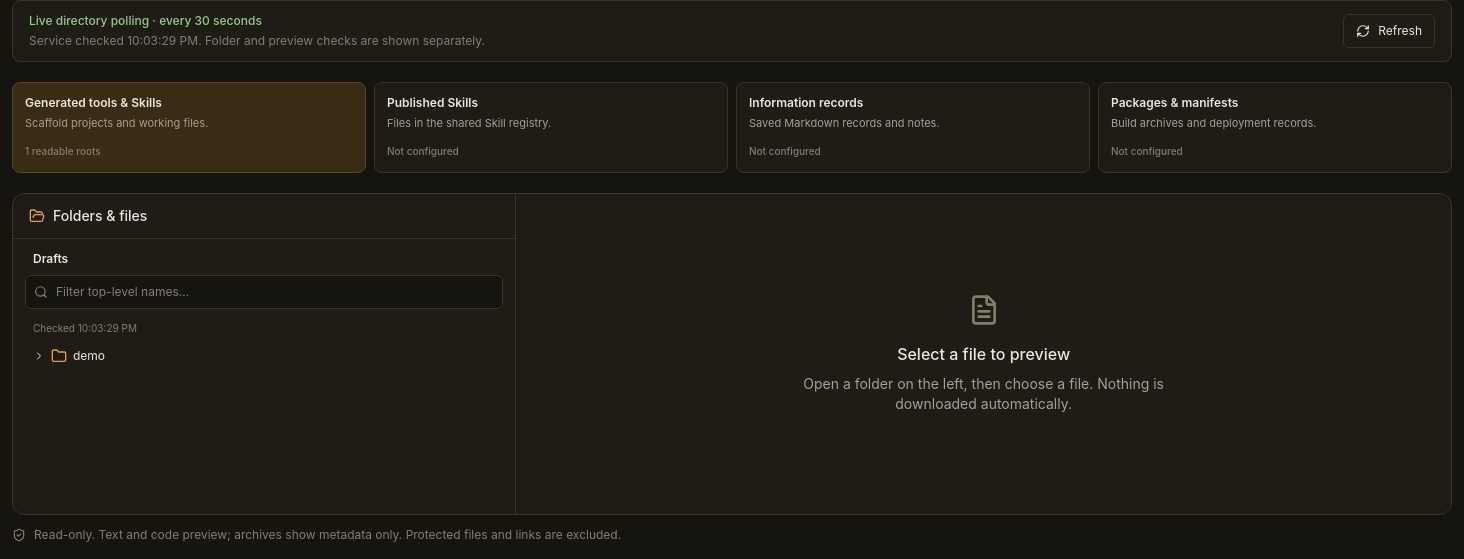
Files live browser › keeps old content visibly stale on a transient refresh failure
Click the button "demo" at (89, 356), box [25,340,503,372]
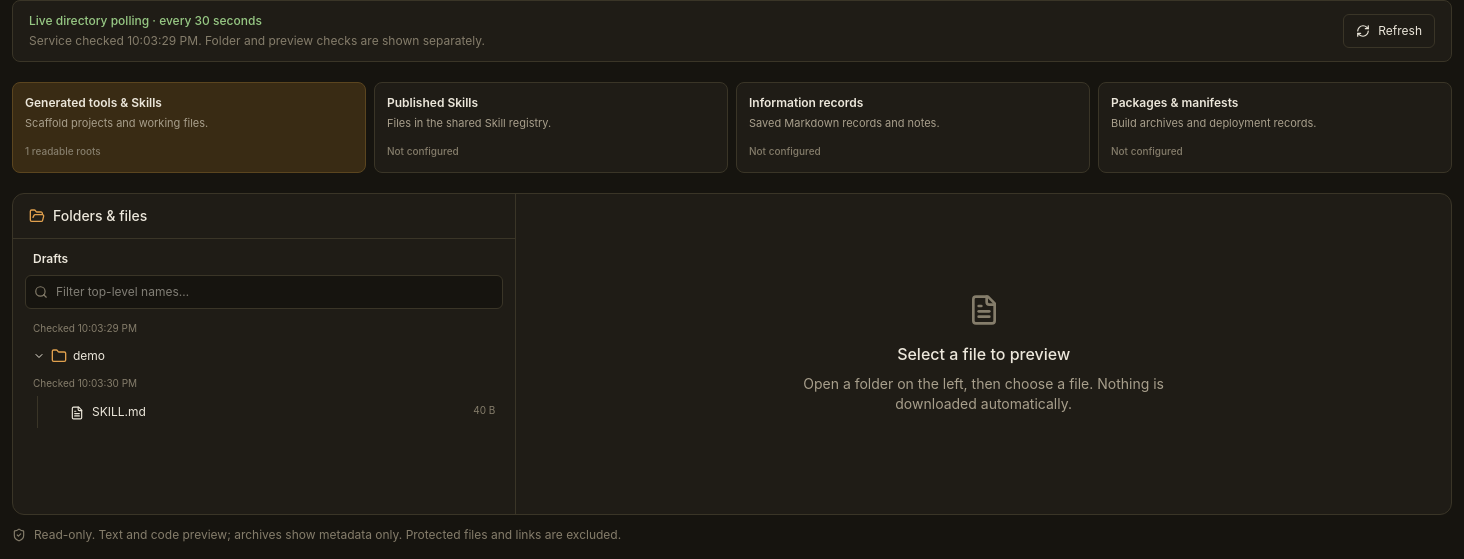
Click the button "SKILL.md 40 B" at (119, 411), box [46,396,503,428]
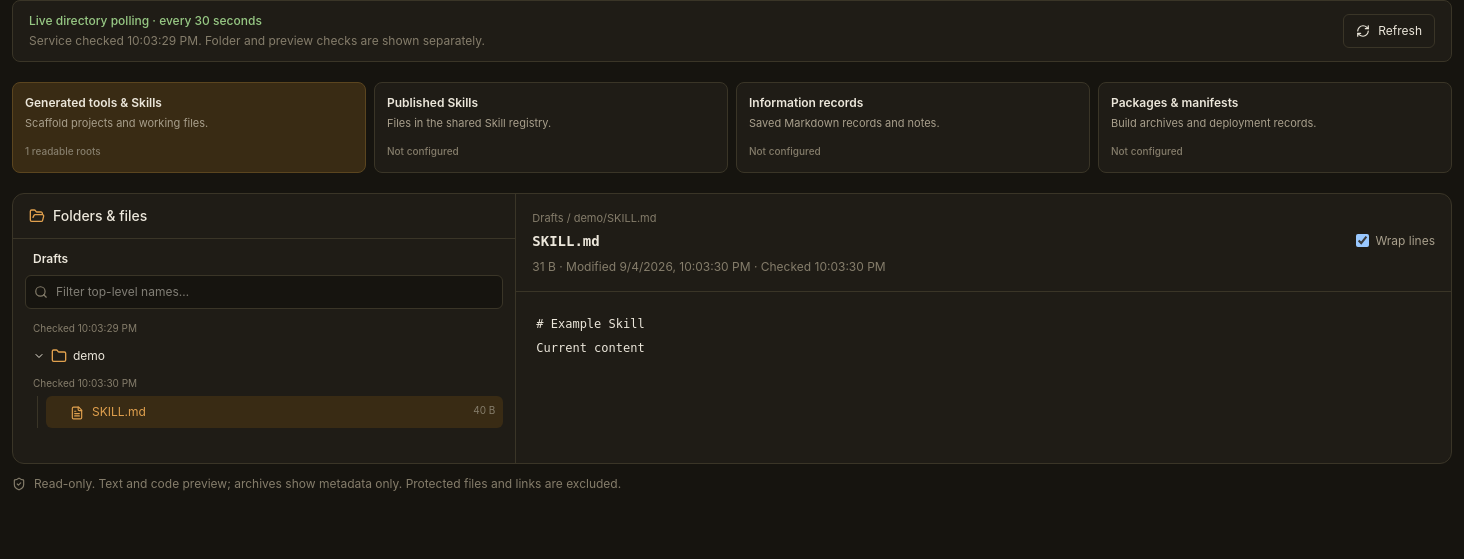
Expected: the element named "File content" is shown, [536,317,645,355]
Click the button "Refresh" at (1389, 31), box [1343,14,1435,48]
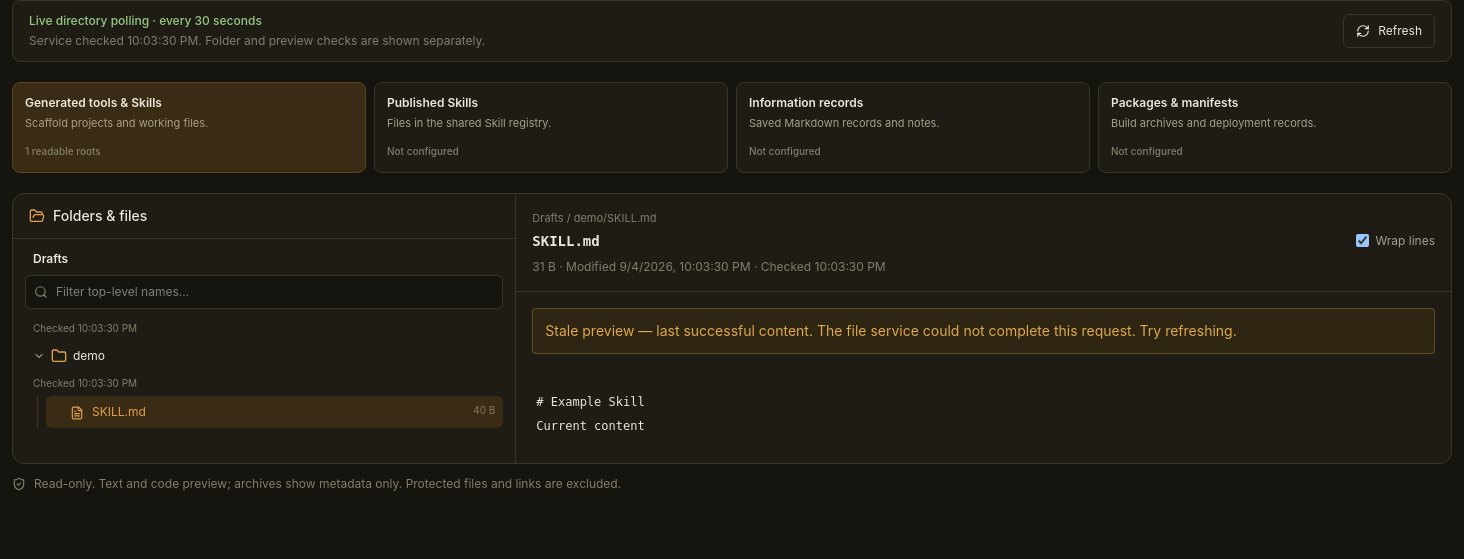
Expected: the element named "File content" shows "Current content", [536,395,645,433]
Expected: the text "Stale preview" is shown, [545,322,817,339]
